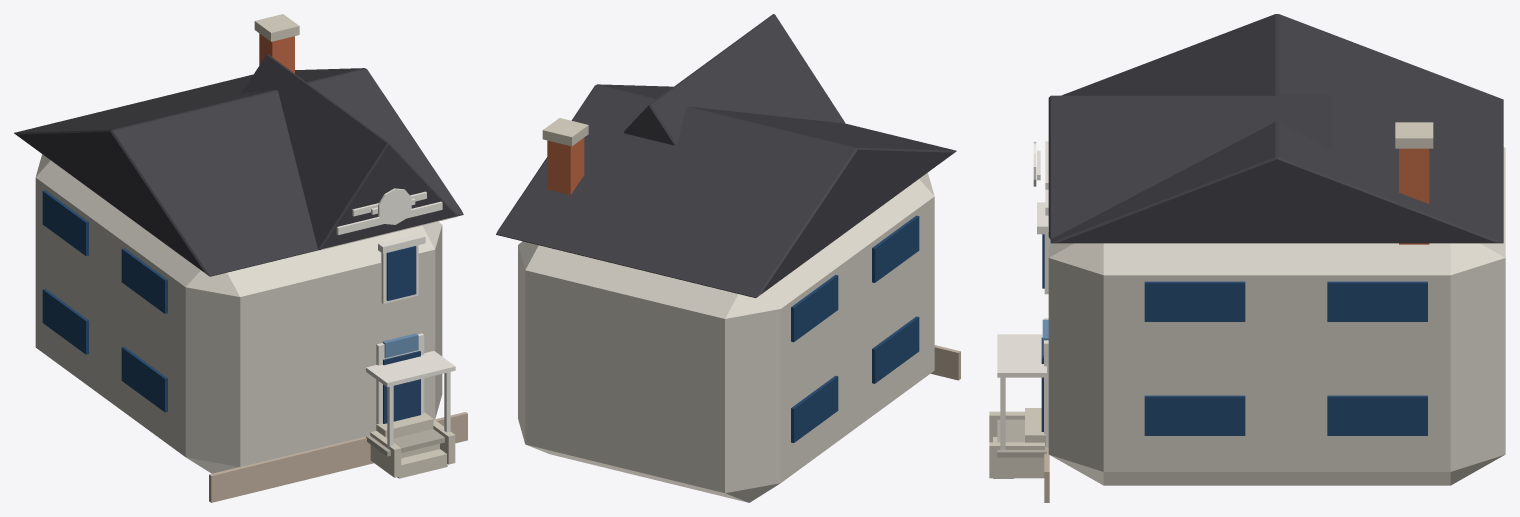
The model's file is qa_w9_gable.glb.
The picture shows the model from 3 angles, left to right: view 1: azimuth 30°, elevation 25°; view 2: azimuth 150°, elevation 25°; view 3: azimuth 270°, elevation 25°; orthographic projection. The views are drawn at different scales.
Visible parts, largest first — view 1: walls, roof, roof.001, bsmt, proof, sb, sb.002, sb.004, sb.006, wgl, door, fan (+12 smaller); view 2: walls, roof, roof.001, sb, sb.004, sb.006, sb.002, chimney, chimcap, bsmt; view 3: walls, roof, roof.001, sb.001, sb.005, sb.003, sb.007, proof, cheek.001, chimney, chimcap, porch (+1 smaller).
Boxes of the visible parts, bbox=[...] form: walls: bbox=[35, 154, 442, 473]; roof: bbox=[14, 68, 463, 276]; roof.001: bbox=[241, 54, 457, 249]; bsmt: bbox=[209, 412, 467, 502]; proof: bbox=[366, 351, 455, 387]; sb: bbox=[121, 346, 167, 412]; sb.002: bbox=[42, 288, 88, 354]; sb.004: bbox=[121, 248, 167, 313]; sb.006: bbox=[42, 190, 88, 255]; wgl: bbox=[386, 246, 416, 300]; door: bbox=[383, 351, 420, 423]; fan: bbox=[378, 188, 411, 224]; walls: bbox=[518, 172, 934, 502]; roof: bbox=[496, 84, 956, 297]; roof.001: bbox=[624, 14, 845, 145]; sb: bbox=[872, 316, 919, 383]; sb.004: bbox=[872, 215, 919, 282]; sb.006: bbox=[791, 274, 838, 342]; sb.002: bbox=[791, 375, 838, 442]; chimney: bbox=[547, 138, 584, 194]; chimcap: bbox=[542, 118, 588, 146]; bsmt: bbox=[931, 345, 960, 380]; walls: bbox=[1048, 147, 1505, 485]; roof: bbox=[1050, 14, 1503, 243]; roof.001: bbox=[1048, 95, 1331, 239]; sb.001: bbox=[1144, 395, 1245, 435]; sb.005: bbox=[1144, 281, 1245, 321]; sb.003: bbox=[1327, 395, 1427, 435]; sb.007: bbox=[1327, 281, 1427, 321]; proof: bbox=[997, 334, 1046, 377]; cheek.001: bbox=[989, 442, 1044, 478]; chimney: bbox=[1399, 148, 1429, 244]; chimcap: bbox=[1395, 122, 1433, 148]; porch: bbox=[997, 419, 1046, 457].
Size of the model in its own units: 9.2 by 10.53 by 13.56.
